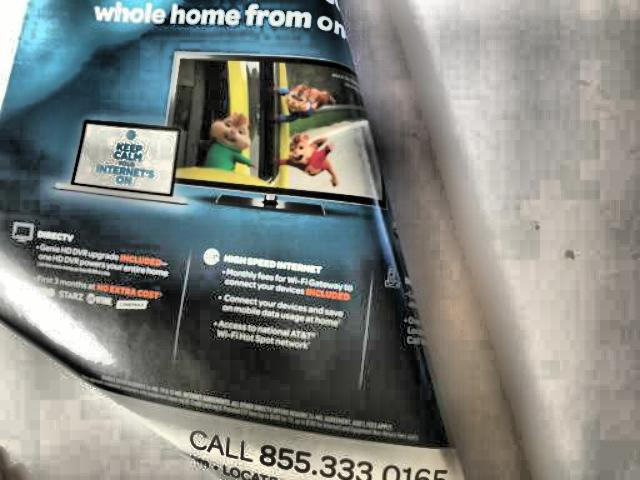Paper: (3, 0, 464, 480)
